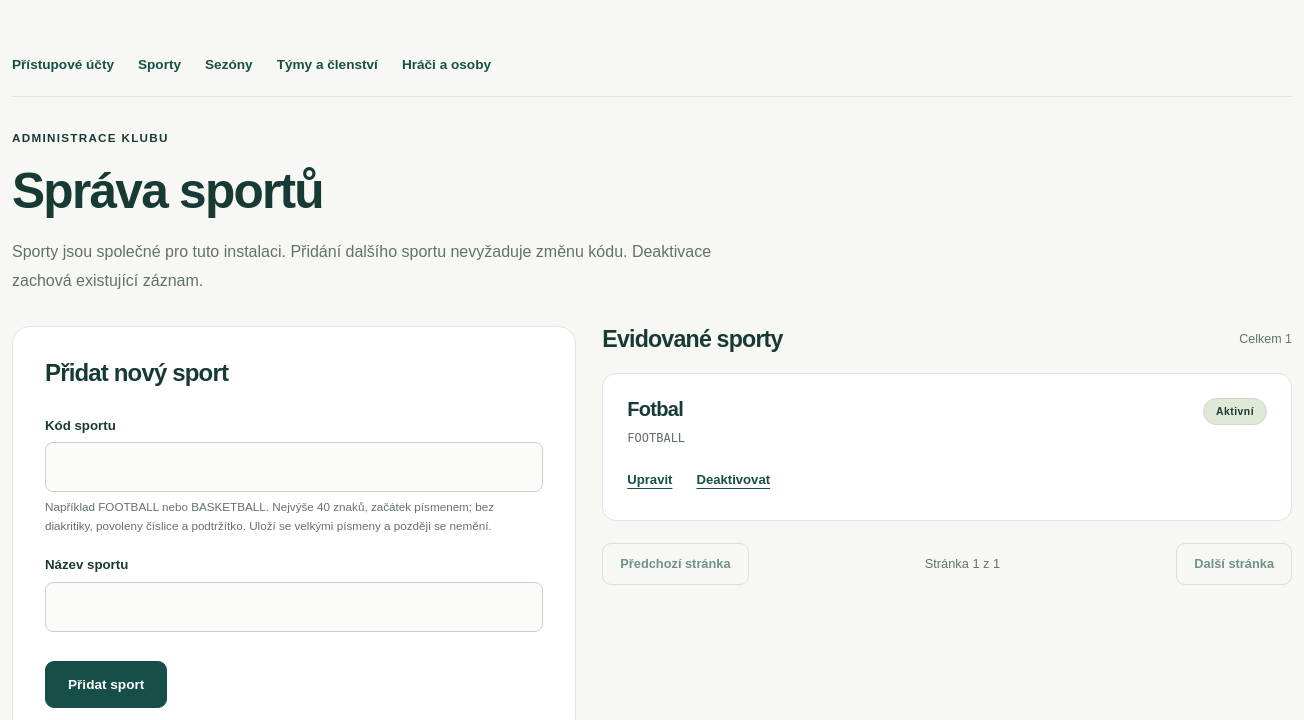
it: P1 sports administration › deaktivace ze staré karty nepřepíše mezitím změněný název sportu
The image size is (1304, 720).
Click the button "Deaktivovat" at [733, 479], box [696,463,770,496]
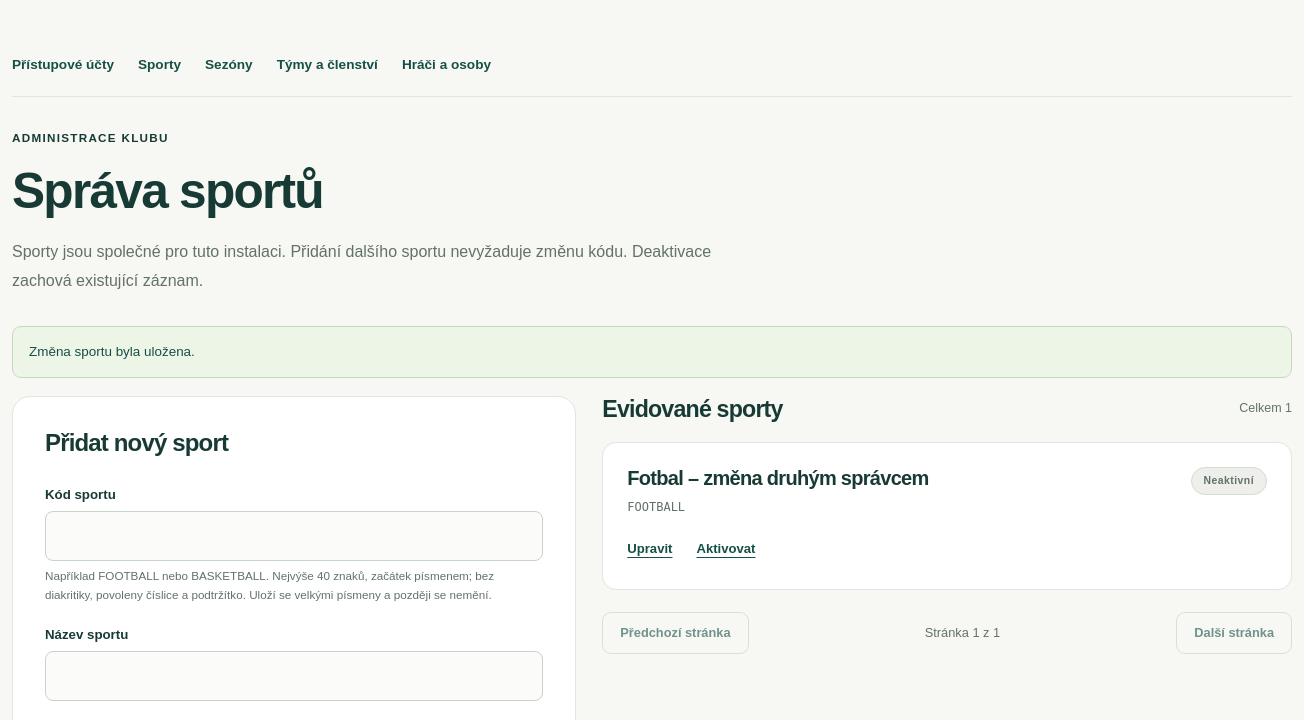
Check: the text "Neaktivní" is shown, box [1191,467,1267,495]
Check: the heading "Fotbal – změna druhým správcem" is shown, box [627,467,929,490]
